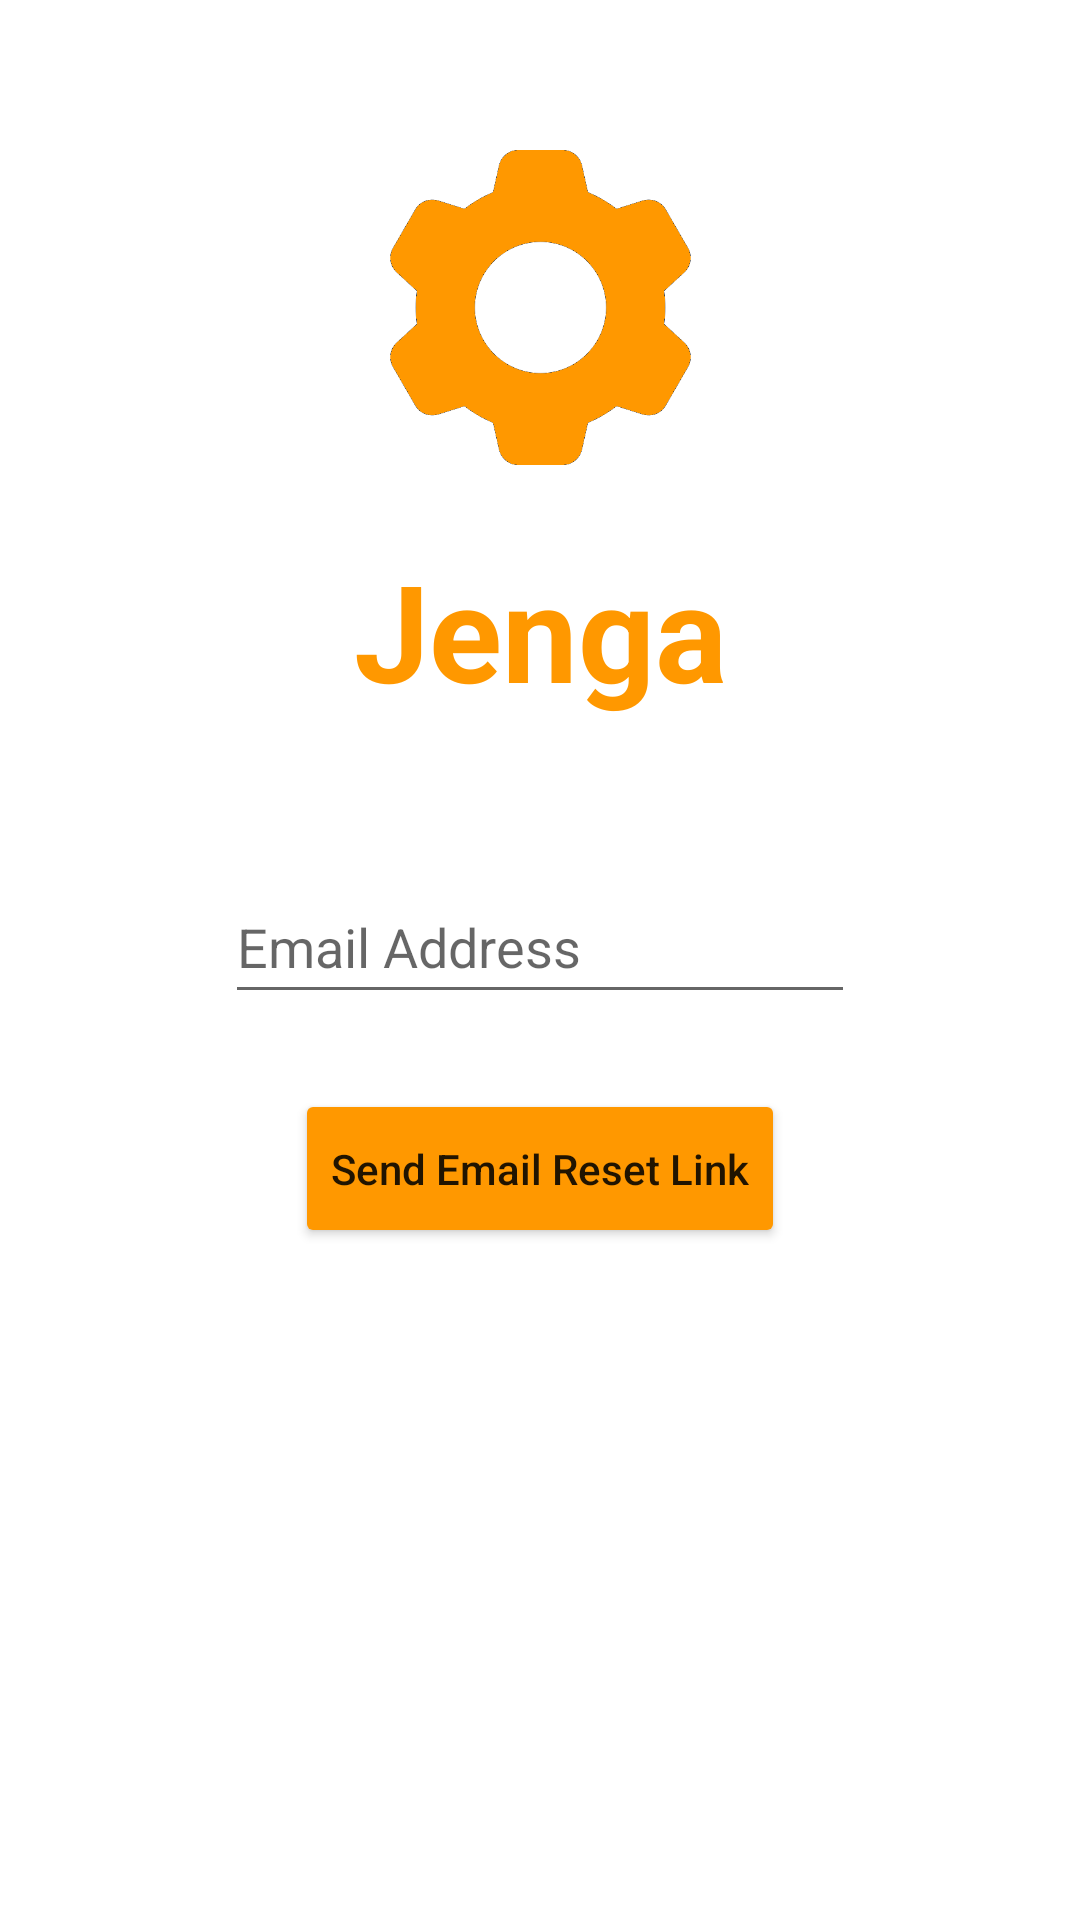

Where to tap for icons on this 1080 × 1920 app screen, as (x=x, y=y):
cogwheel: (x=540, y=307)
